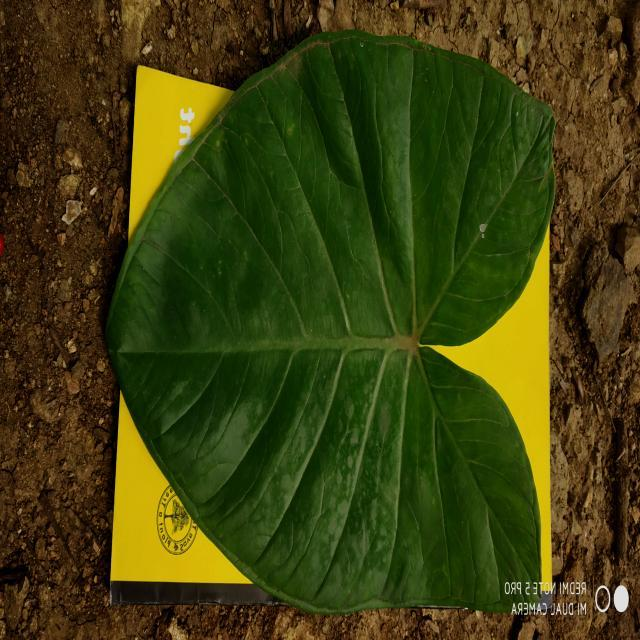leaf: (105, 28, 556, 615)
